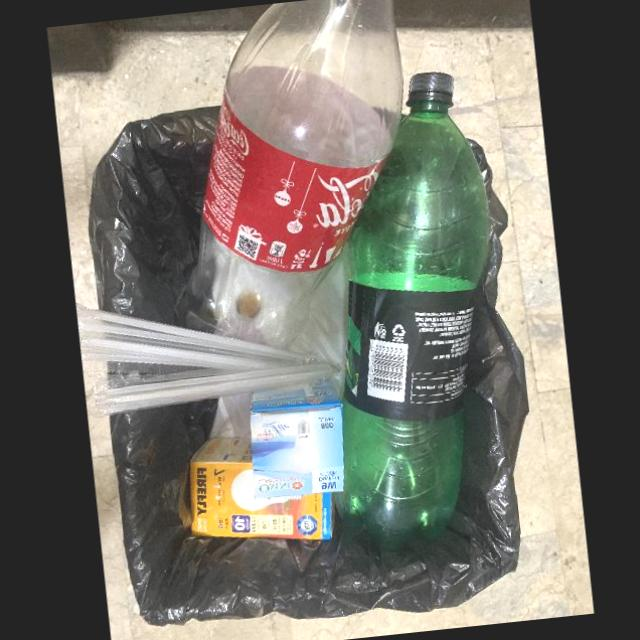carton: (191, 436, 335, 538), (250, 379, 343, 498)
chai_nhua: (341, 70, 490, 535)
chai_nhua_pet: (184, 0, 403, 347)
ong_hut_nhua: (100, 363, 334, 414), (92, 311, 309, 360), (79, 322, 296, 360), (80, 333, 288, 371)
